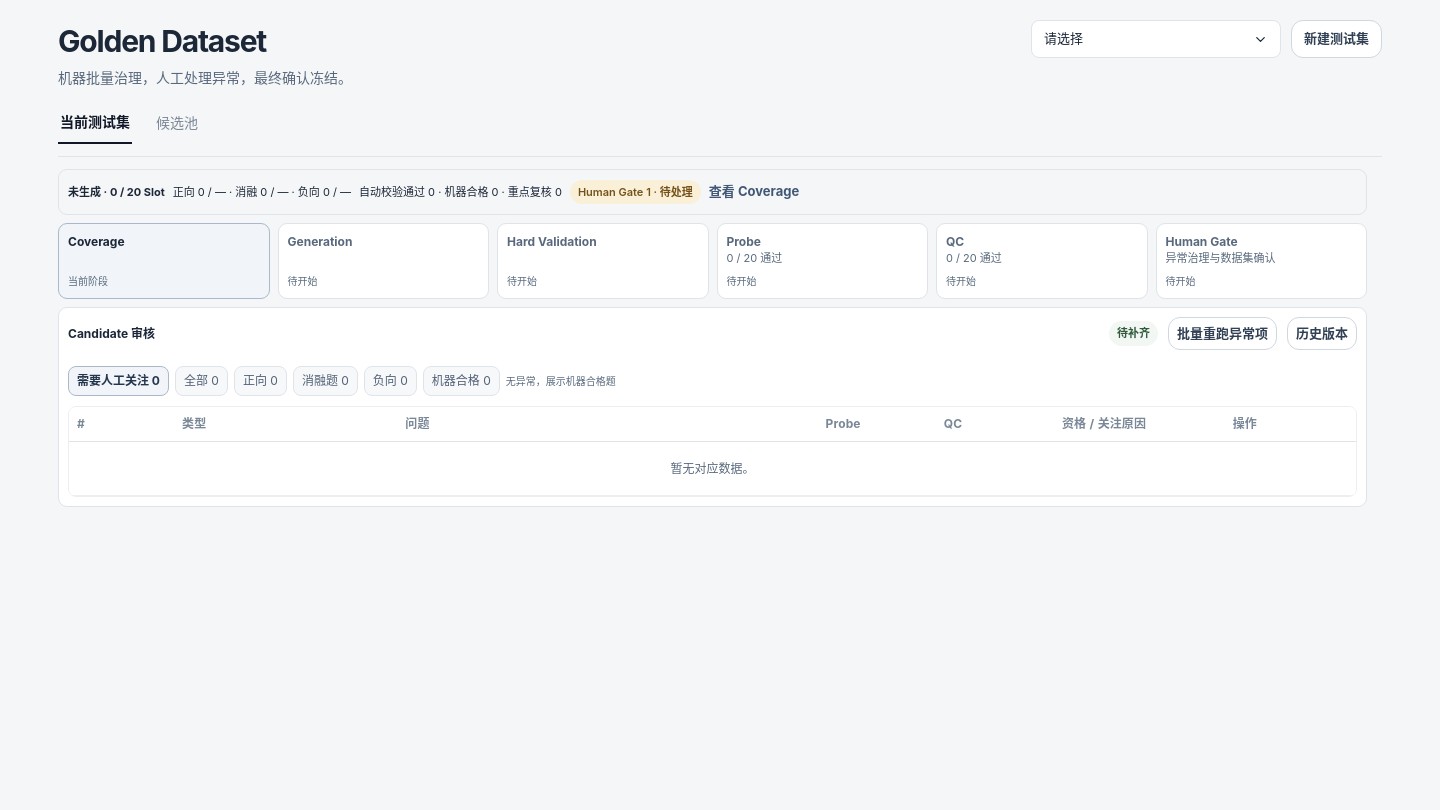
Scenario: I4 manual current Preview is available with legacy Run=true and preserves saved objects
The width and height of the screenshot is (1440, 810).
Click the button "历史版本" at point(1322, 334), box [1287,317,1357,350]
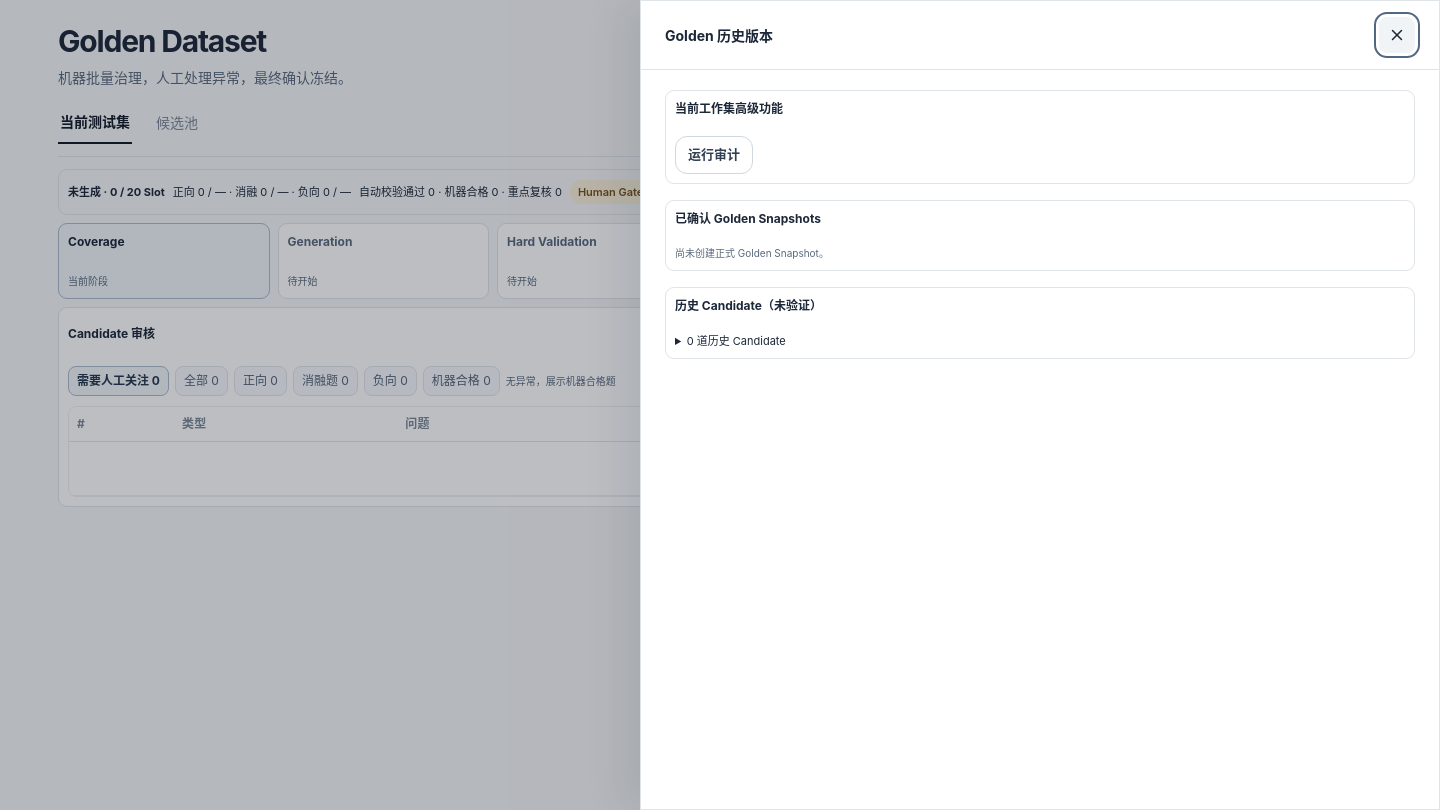
Click the button "运行审计" at point(714, 155), box [675,136,753,174]
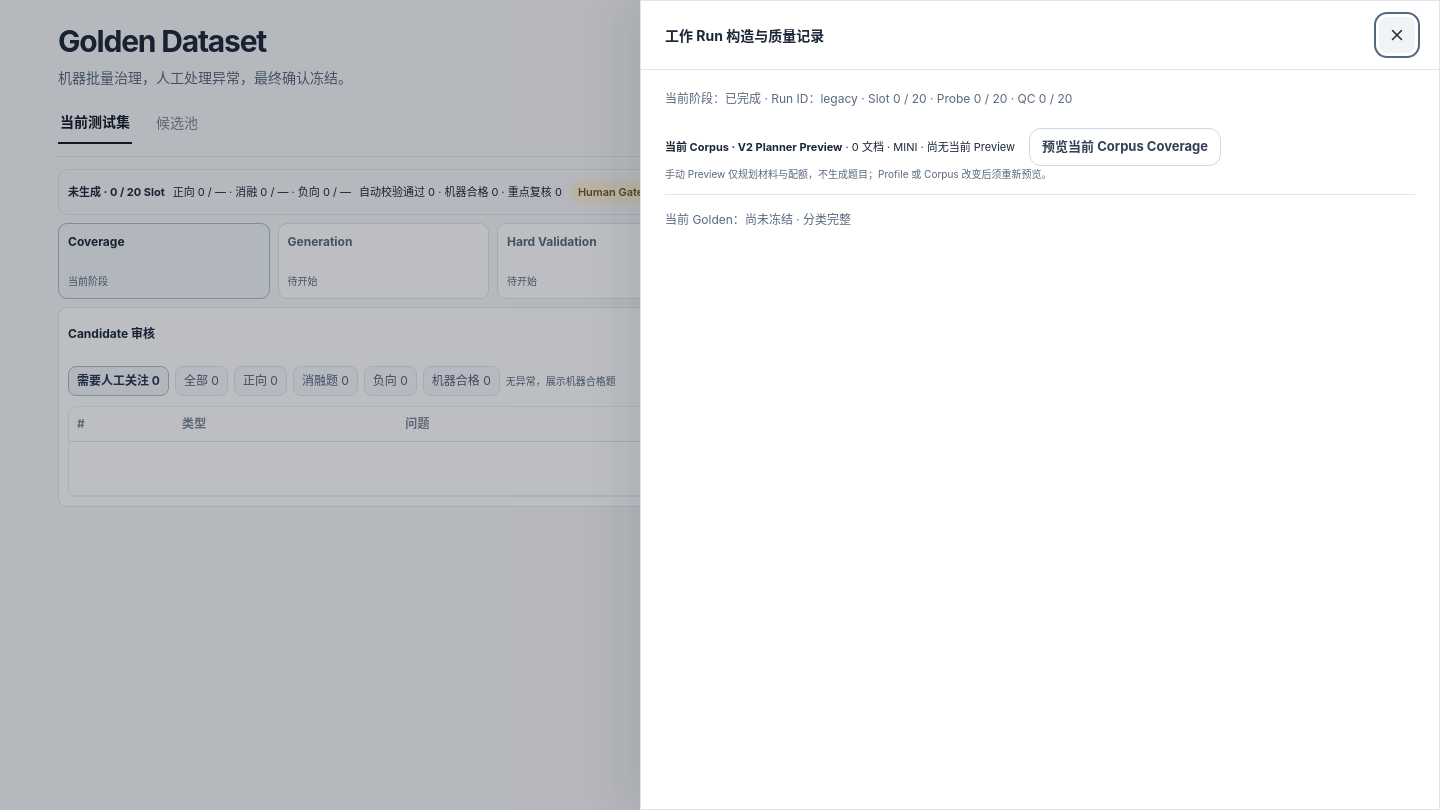
Click the button "预览当前 Corpus Coverage" at point(1125, 147), box [1029,128,1221,166]
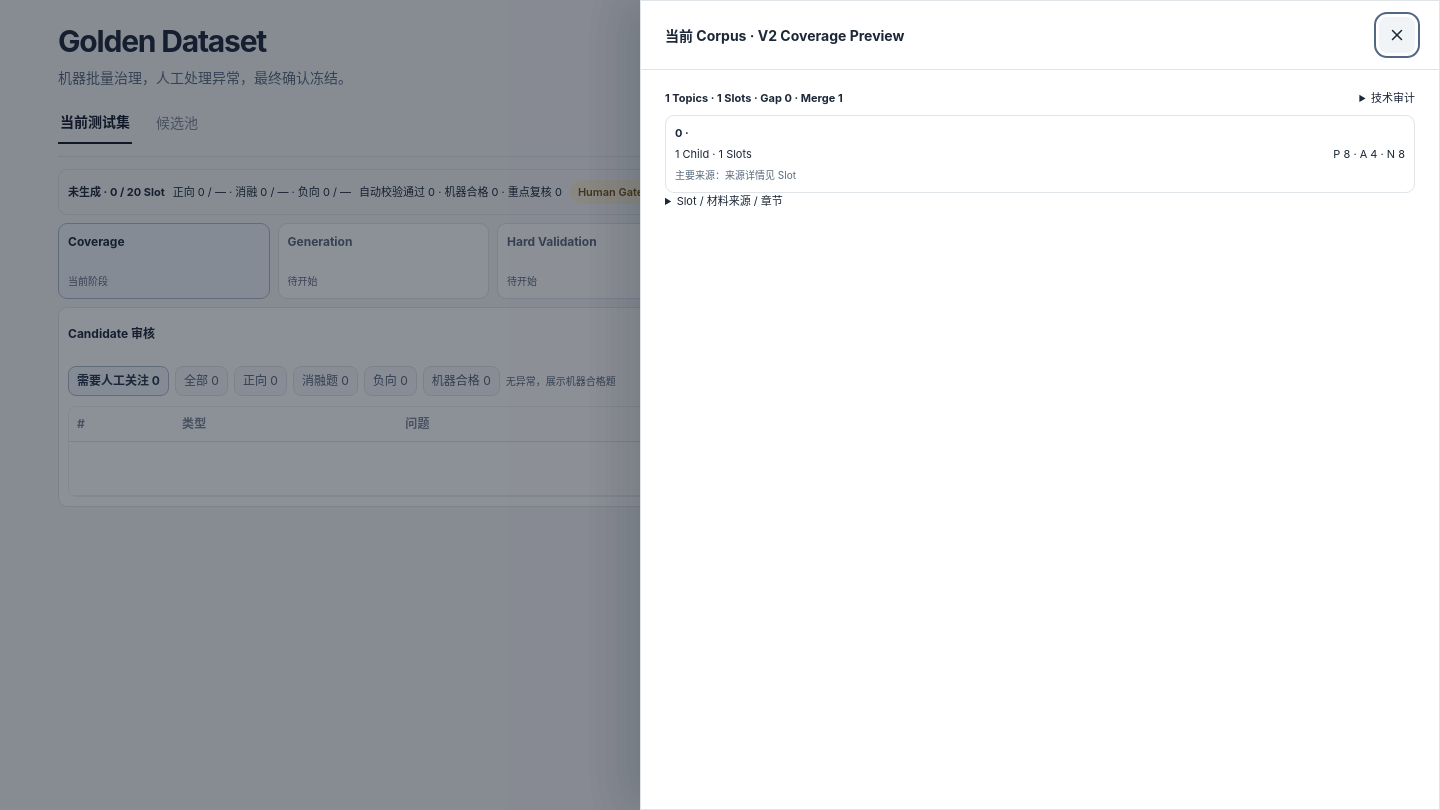
Result: the text "当前 Corpus · V2 Coverage Preview" is shown at [665,24,904,46]
Result: the text "1 Topics · 1 Slots · Gap 0 · Merge 1" is shown at [665,90,843,106]
